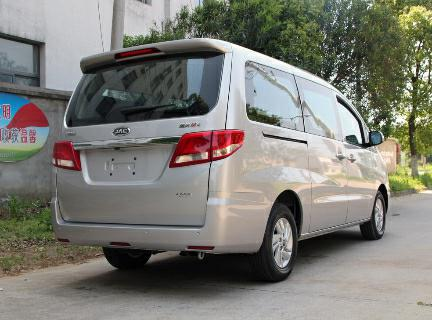江淮-瑞风M4: (47, 39, 399, 282)
